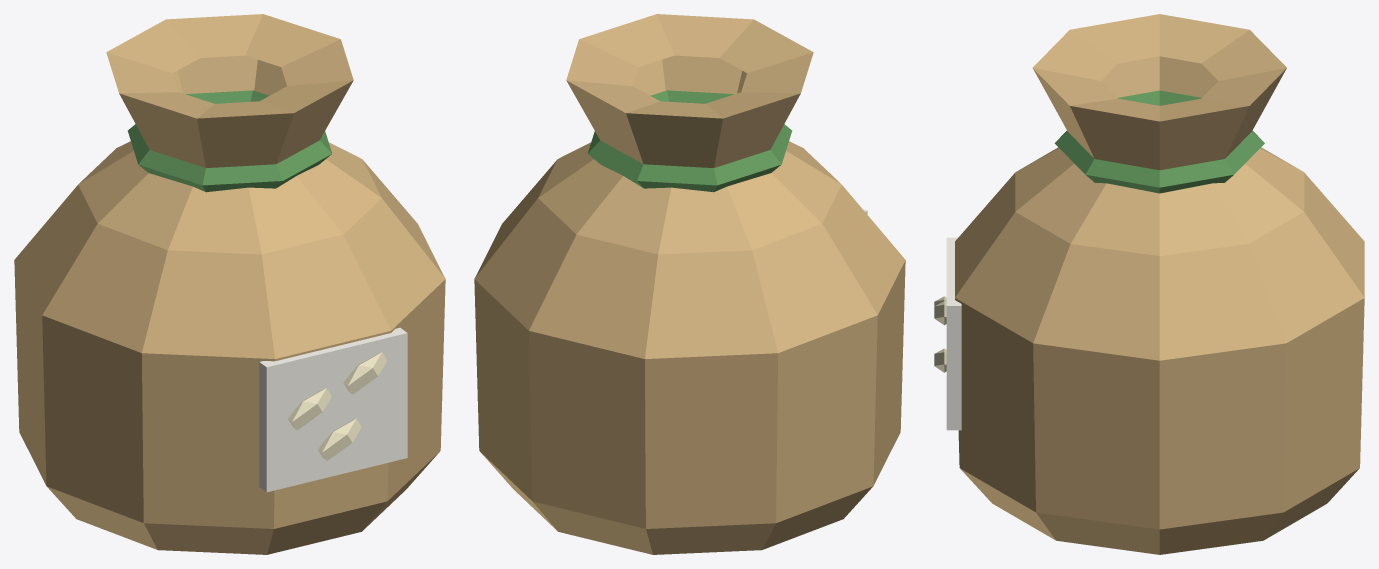
File: Food_Rice.obj
The picture shows the model from 3 angles, left to right: view 1: azimuth 30°, elevation 25°; view 2: azimuth 150°, elevation 25°; view 3: azimuth 270°, elevation 25°; orthographic projection.
Bounding box in the file's own units: 1.76 × 1.86 × 1.76.
